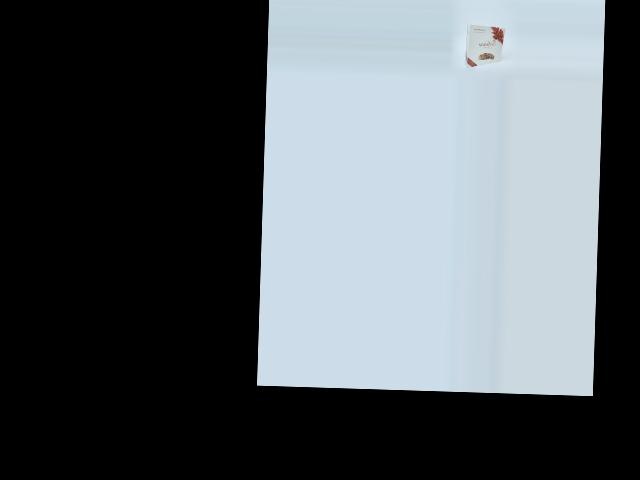chocolate: (456, 24, 506, 70)
